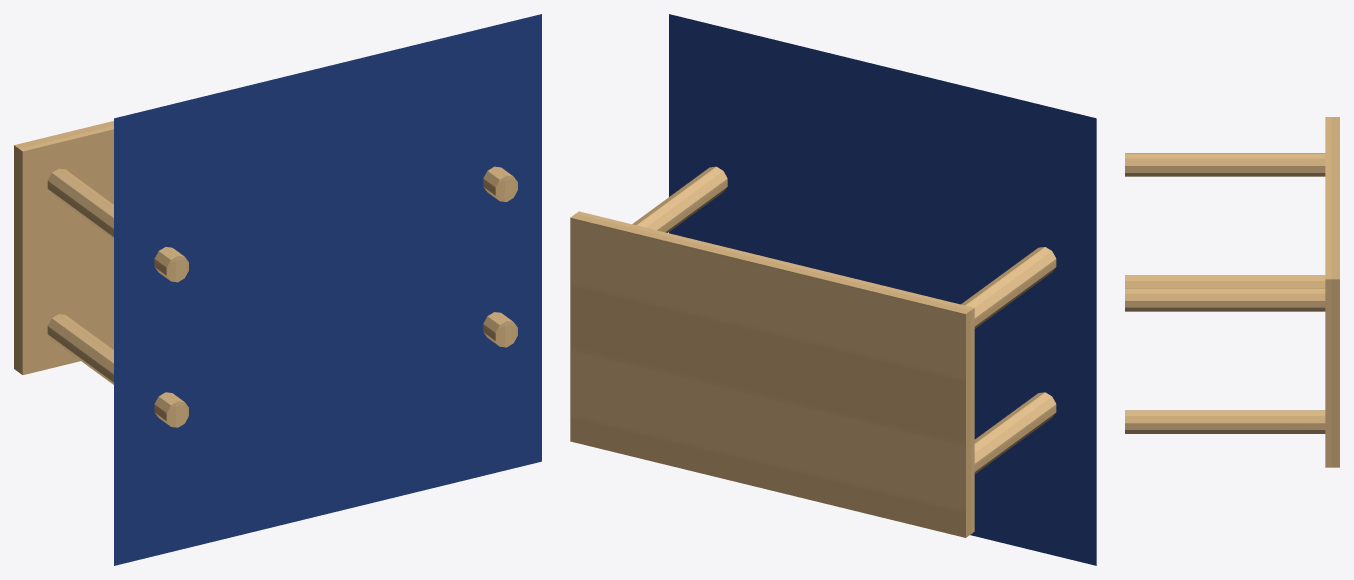
Rendered from UtilityRoom_Table.fbx.
3 renders of one model, left to right at view 1: azimuth 30°, elevation 25°; view 2: azimuth 150°, elevation 25°; view 3: azimuth 270°, elevation 25°, orthographic. The views are drawn at different scales.
Parts seen in each view (by area): view 1: Plane.305, Cube.006; view 2: Plane.305, Cube.006; view 3: Cube.006.
Boxes of the visible parts, x1,y1,x2,y2 form: Plane.305: (114, 14, 541, 565); Cube.006: (14, 121, 517, 427); Plane.305: (669, 14, 1096, 565); Cube.006: (570, 166, 1056, 537); Cube.006: (1125, 117, 1339, 467).
Size of the model in its own units: 2 by 2 by 1.04.
